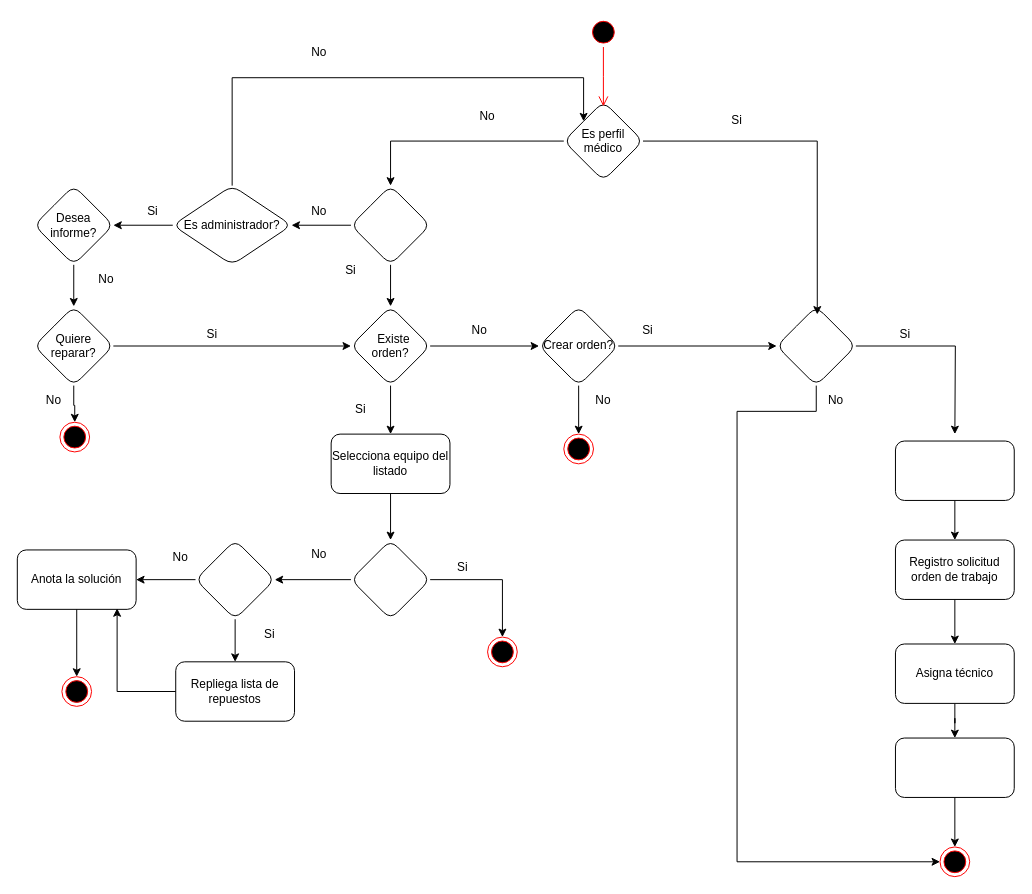
Image size: 1032x894. Some labels were removed from this diagram. Here are the shapes that lost their labels. From the top down, the centre of each, then its label:
At [390,225]: "Es técnico".
At [816,345]: "Lee tarjeta".
At [954,470]: "Identifica equipo".
At [235,579]: "utilizó repuesto?".
At [390,579]: "Está reparado?".
At [954,767]: "Envío de solicitud de orden de trabajo".
